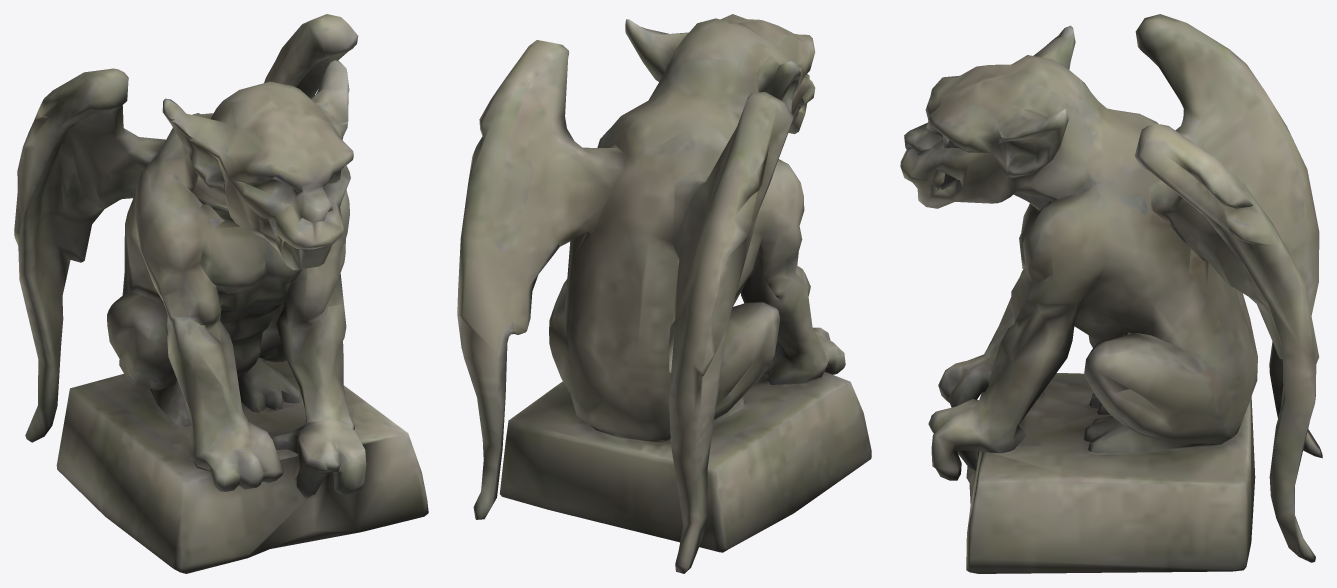
Rendered from simple-limestone-gargoyle-v001.glb.
3 views of the same model, side by side, from view 1: azimuth 30°, elevation 25°; view 2: azimuth 150°, elevation 25°; view 3: azimuth 270°, elevation 25° (orthographic). The views are drawn at different scales.
Parts seen in each view (by area): view 1: simple-limestone-gargoyle; view 2: simple-limestone-gargoyle; view 3: simple-limestone-gargoyle.
Part boxes in pixels (bbox=[...]): simple-limestone-gargoyle: bbox=[14, 14, 428, 573]; simple-limestone-gargoyle: bbox=[457, 14, 871, 573]; simple-limestone-gargoyle: bbox=[900, 14, 1322, 573].
Size of the model in its own units: 0.7851 by 1.16 by 0.9824.
1 material, 1 textured.
